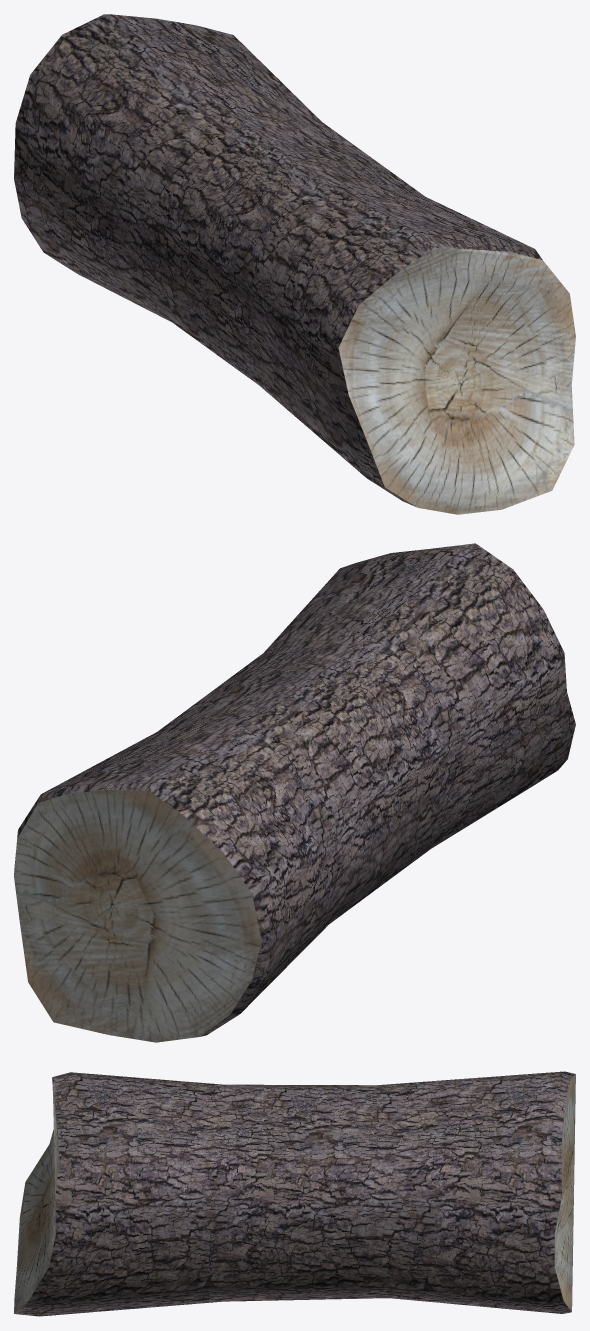
File: log.FBX
3 views of the same model, one above another, from view 1: azimuth 30°, elevation 25°; view 2: azimuth 150°, elevation 25°; view 3: azimuth 270°, elevation 25° (orthographic). The views are drawn at different scales.
Parts seen in each view (by area): view 1: Cone001; view 2: Cone001; view 3: Cone001.
Boxes of the visible parts, x1,y1,x2,y2 form: Cone001: [14, 14, 575, 514]; Cone001: [14, 543, 575, 1042]; Cone001: [14, 1071, 575, 1316].
Size of the model in its own units: 67.21 by 65.66 by 160.
